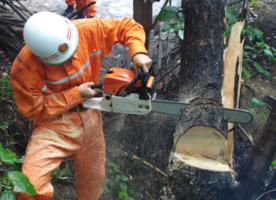person: (9, 11, 152, 200)
